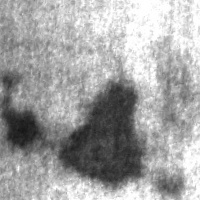patches: (56, 78, 150, 191), (2, 104, 45, 154)
